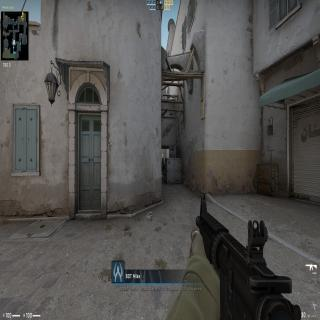CT-Head: (161, 158, 165, 162)
